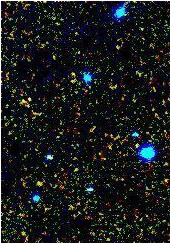star: (22, 170, 52, 200)
